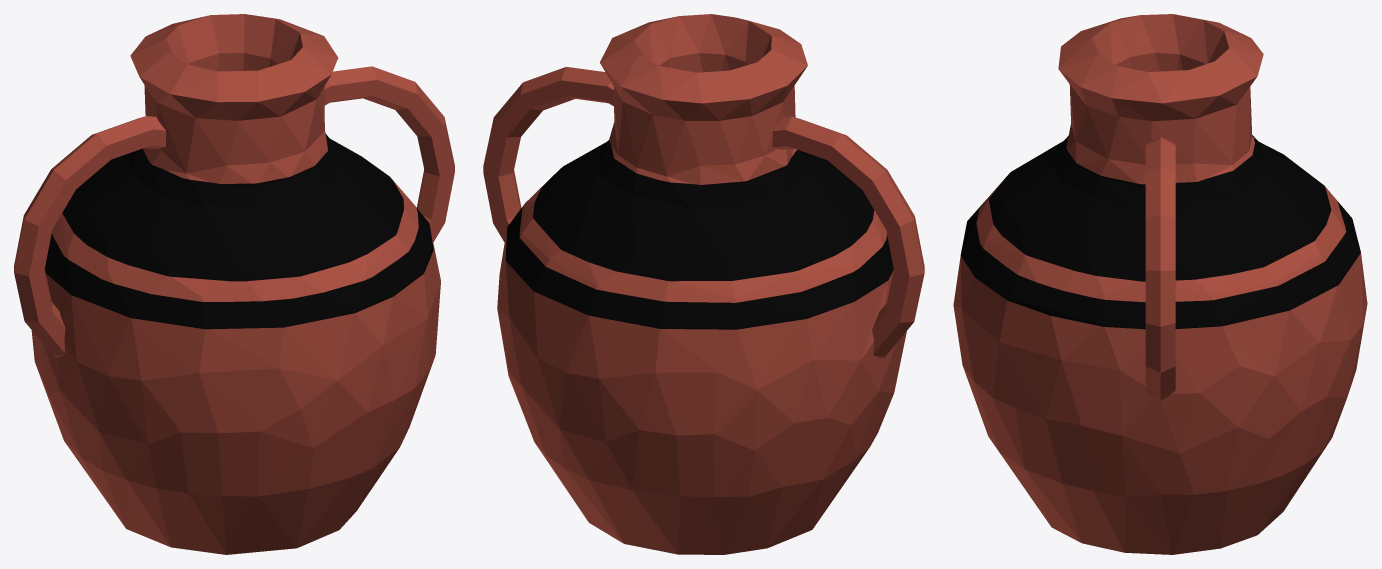
The model's file is Pottery 13_2.fbx.
3 renders of one model, left to right at view 1: azimuth 30°, elevation 25°; view 2: azimuth 150°, elevation 25°; view 3: azimuth 270°, elevation 25°, orthographic.
Parts seen in each view (by area): view 1: Pottery 13_2; view 2: Pottery 13_2; view 3: Pottery 13_2.
Boxes of the visible parts, bbox=[...] form: Pottery 13_2: bbox=[14, 14, 454, 554]; Pottery 13_2: bbox=[483, 14, 924, 554]; Pottery 13_2: bbox=[953, 14, 1367, 554].
Bounding box in the file's own units: 65.52 × 65.3 × 53.29.
